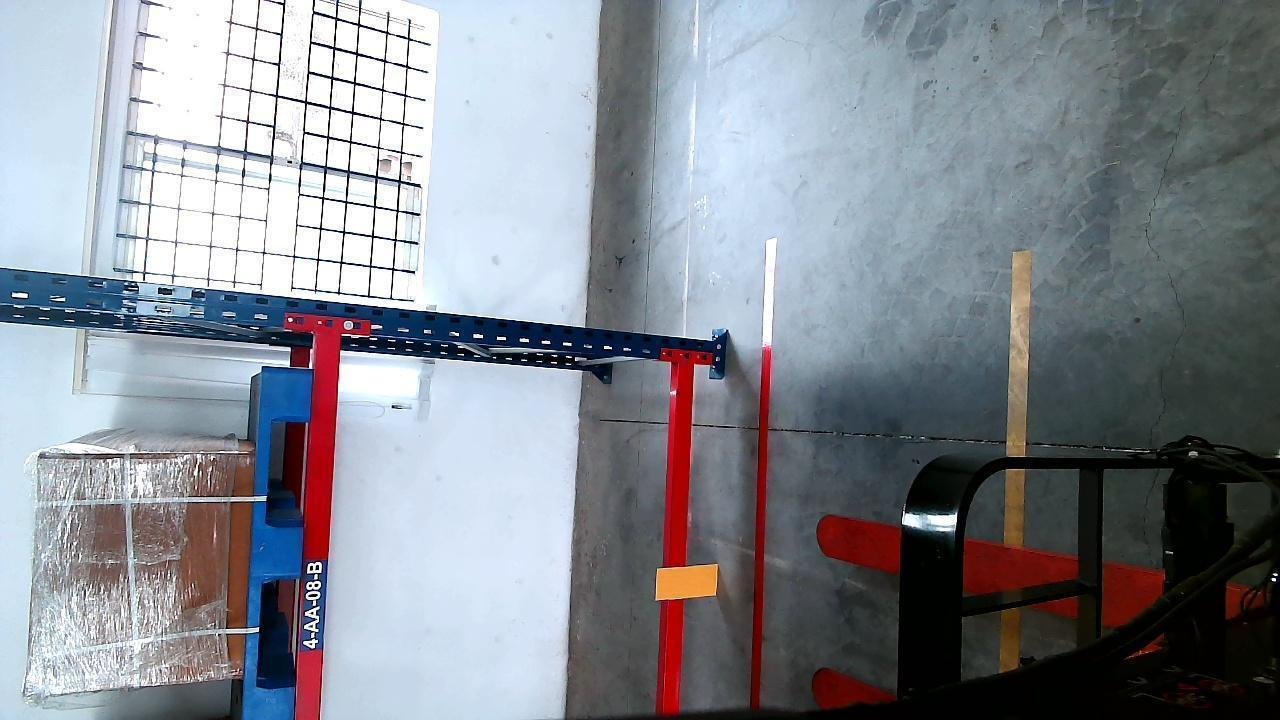red_line: (748, 237, 777, 720)
yellow_line: (1003, 249, 1031, 673)
